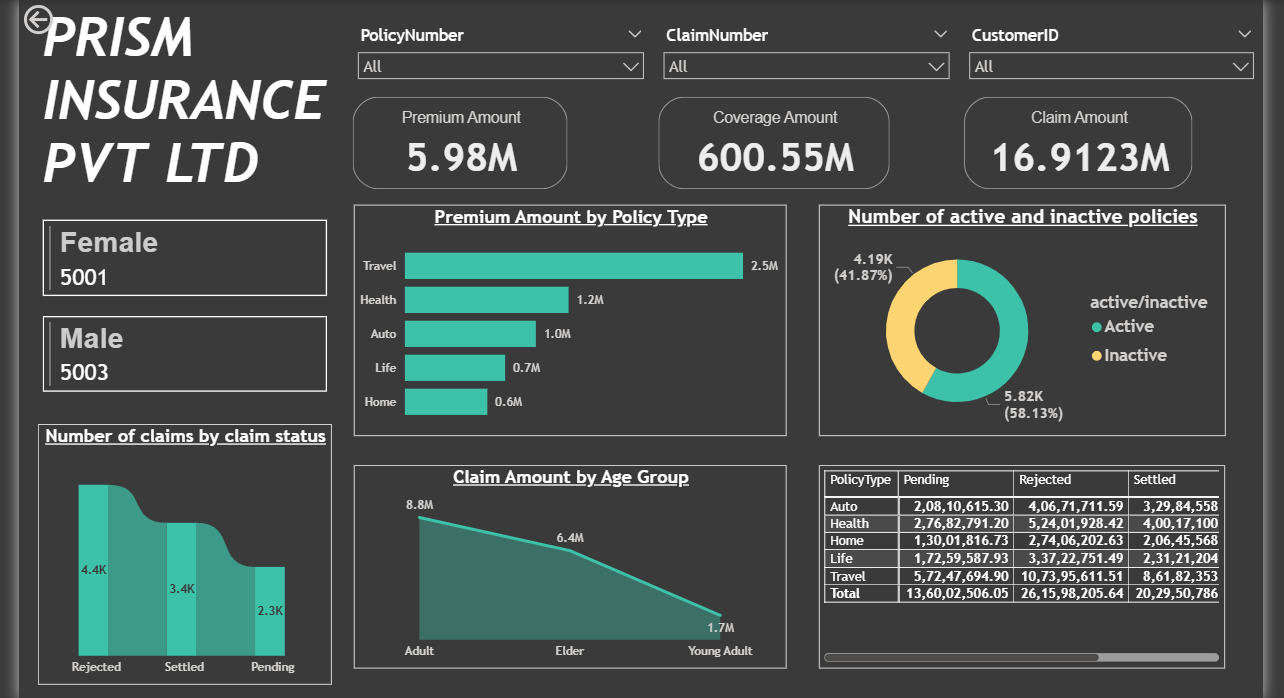

What the dashboard file says about the page in this screenshot:
{"tool":"powerbi","page":{"name":"Insurance KPIs","canvas":[1280,720],"ordinal":0},"visuals":[{"type":"slicer","fields":{"Values":["InsuranceData.PolicyNumber"]},"box":[338.6,21.1,314.5,84.3],"z":0},{"type":"slicer","fields":{"Values":["InsuranceData.ClaimNumber"]},"box":[653.1,21.1,314.5,84.3],"z":1000},{"type":"slicer","fields":{"Values":["InsuranceData.CustomerID"]},"box":[967.6,21.1,313,84.3],"z":2000},{"type":"textbox","box":[19.6,0,319,210.7],"z":3000},{"type":"cardVisual","fields":{"Data":["Sum(InsuranceData.PremiumAmount)"]},"box":[338.6,94.8,231.7,105.3],"z":4000},{"type":"cardVisual","fields":{"Data":["Sum(InsuranceData.CoverageAmount)"]},"box":[653.1,94.8,248.3,105.3],"z":5000},{"type":"cardVisual","fields":{"Data":["Sum(InsuranceData.ClaimAmount)"]},"box":[967.6,94.8,245.3,105.3],"z":6000},{"type":"multiRowCard","fields":{"Values":["InsuranceData.Gender","CountNonNull(InsuranceData.Gender)"]},"box":[19.6,221.2,302.5,215.2],"z":7000},{"type":"ribbonChart","title":"Number of claims by claim status","fields":{"Category":["InsuranceData.ClaimStatus"],"Y":["CountNonNull(InsuranceData.ClaimStatus)"]},"box":[19.6,436.4,302.5,267.9],"z":8000},{"type":"barChart","title":"Premium Amount by Policy Type","fields":{"Category":["InsuranceData.PolicyType"],"Y":["Sum(InsuranceData.PremiumAmount)"]},"box":[344.6,210.7,445.4,237.8],"z":9000},{"type":"clusteredColumnChart","title":"Claim Amount by Age Group","fields":{"Category":["InsuranceData.Age Group"],"Y":["Sum(InsuranceData.ClaimAmount)"]},"box":[344.6,478.5,445.4,209.2],"z":10000},{"type":"donutChart","title":"Number of active and inactive policies","fields":{"Category":["InsuranceData.active/inactive"],"Y":["CountNonNull(InsuranceData.active/inactive)"]},"box":[823.2,210.7,418.3,237.8],"z":11000},{"type":"pivotTable","fields":{"Values":["Sum(InsuranceData.CoverageAmount)"],"Rows":["InsuranceData.PolicyType"],"Columns":["InsuranceData.ClaimStatus"]},"box":[823.2,480,418.3,209.2],"z":12000},{"type":"actionButton","box":[0,0,100,40],"z":13000}]}

Visuals, with their boxes on the page's 1280x720 design canvas (x1, y1, x2, y2). These are canvas units, not pixel positions in the 1284x698 screenshot, which may show the page scaled, cropped or inside an application window:
slicer - InsuranceData.PolicyNumber: rect(339, 21, 653, 105)
slicer - InsuranceData.ClaimNumber: rect(653, 21, 968, 105)
slicer - InsuranceData.CustomerID: rect(968, 21, 1281, 105)
textbox: rect(20, 0, 339, 211)
cardVisual - Sum(InsuranceData.PremiumAmount): rect(339, 95, 570, 200)
cardVisual - Sum(InsuranceData.CoverageAmount): rect(653, 95, 901, 200)
cardVisual - Sum(InsuranceData.ClaimAmount): rect(968, 95, 1213, 200)
multiRowCard - InsuranceData.Gender x CountNonNull(InsuranceData.Gender): rect(20, 221, 322, 436)
"Number of claims by claim status" ribbonChart: rect(20, 436, 322, 704)
"Premium Amount by Policy Type" barChart: rect(345, 211, 790, 448)
"Claim Amount by Age Group" clusteredColumnChart: rect(345, 478, 790, 688)
"Number of active and inactive policies" donutChart: rect(823, 211, 1242, 448)
pivotTable - Sum(InsuranceData.CoverageAmount) x InsuranceData.PolicyType: rect(823, 480, 1242, 689)
actionButton: rect(0, 0, 100, 40)
